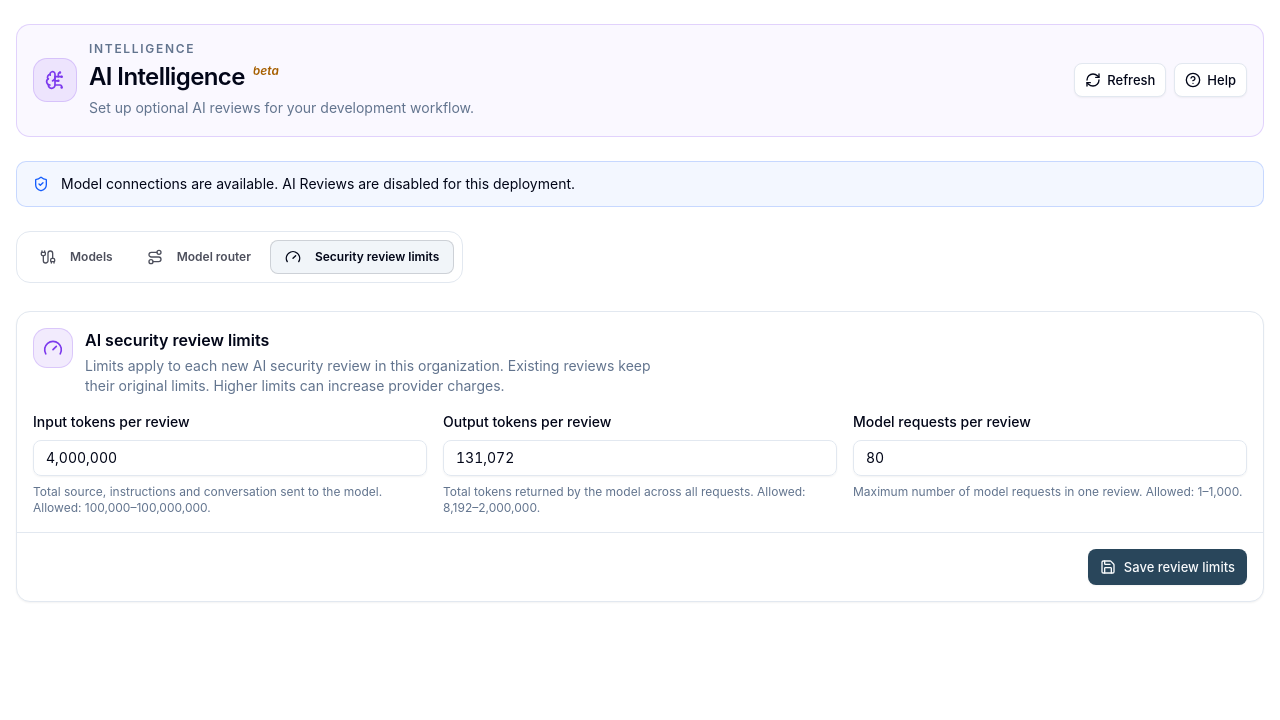
it: keeps edited Security review limits visible when another administrator has changed them
The width and height of the screenshot is (1280, 720).
Replace the text in the field labelled "Input tokens per review" with "9000000" at (230, 458), box [33,440,427,476]
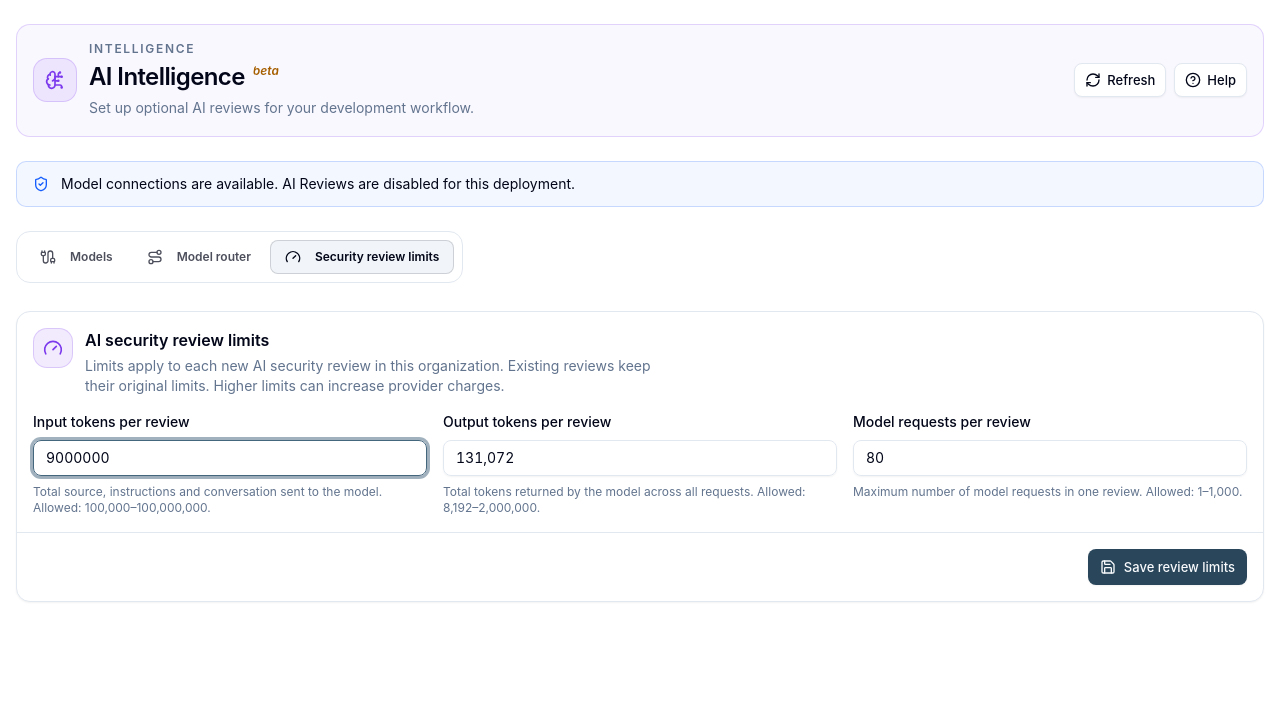
Click the button "Save review limits" at (1167, 567), box [1088,549,1247,585]
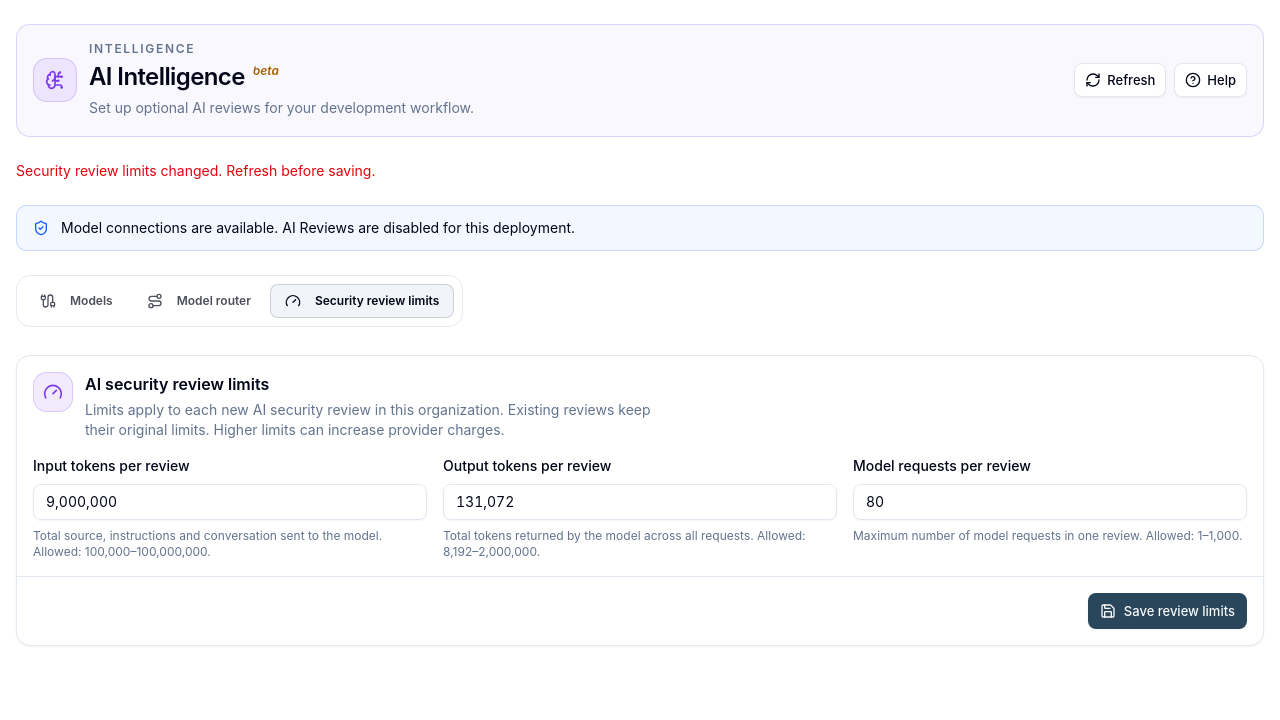
expect the message reads "Security review limits changed. Refresh before saving.": met, box [16,162,376,179]
expect the field labelled "Input tokens per review" holds "9,000,000": met, box [33,484,427,520]
